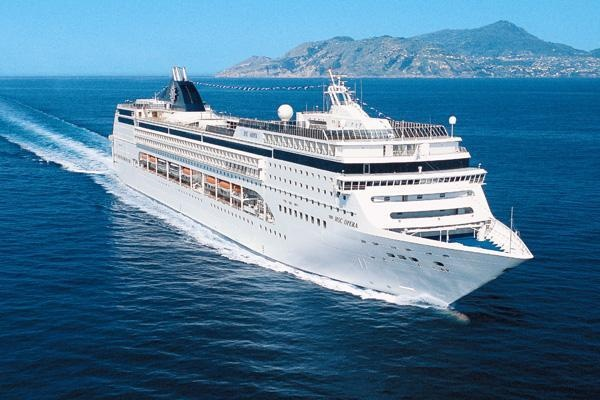youlun: (107, 64, 537, 310)
